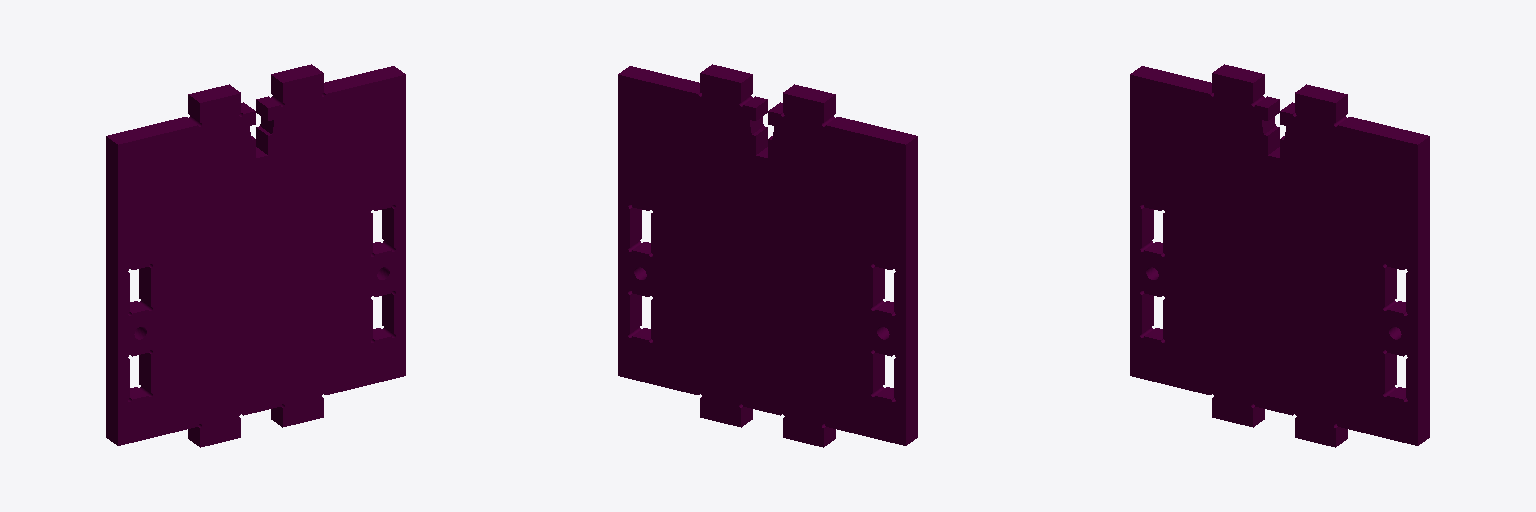
3 views of the same model, side by side, from view 1: azimuth 30°, elevation 25°; view 2: azimuth 150°, elevation 25°; view 3: azimuth 330°, elevation 25° (orthographic).
Parts seen in each view (by area): view 1: Mesh_Mesh.012_Mesh.039_Mes; view 2: Mesh_Mesh.012_Mesh.039_Mes; view 3: Mesh_Mesh.012_Mesh.039_Mes.
Part boxes in pixels (x1,y1,x2,y2): Mesh_Mesh.012_Mesh.039_Mes: (106,64,405,447); Mesh_Mesh.012_Mesh.039_Mes: (618,64,917,447); Mesh_Mesh.012_Mesh.039_Mes: (1130,64,1429,447).
Bounding box in the file's own units: 2.76 × 3.15 × 0.2.